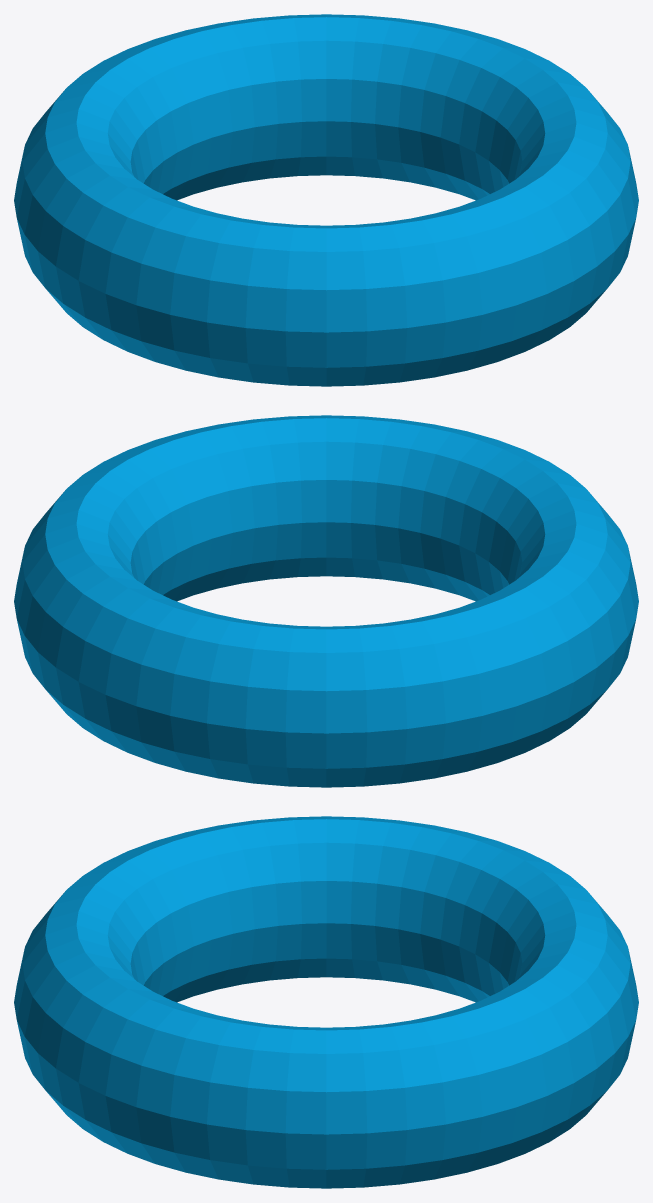
File: ring 2.fbx
The picture shows the model from 3 angles, top to bottom: view 1: azimuth 30°, elevation 25°; view 2: azimuth 150°, elevation 25°; view 3: azimuth 270°, elevation 25°; orthographic projection.
Parts seen in each view (by area): view 1: ring 2; view 2: ring 2; view 3: ring 2.
Boxes of the visible parts, x1,y1,x2,y2 form: ring 2: (14,14,638,386); ring 2: (14,415,638,787); ring 2: (14,816,638,1188).
Size of the model in its own units: 72.44 by 19.87 by 72.44.
